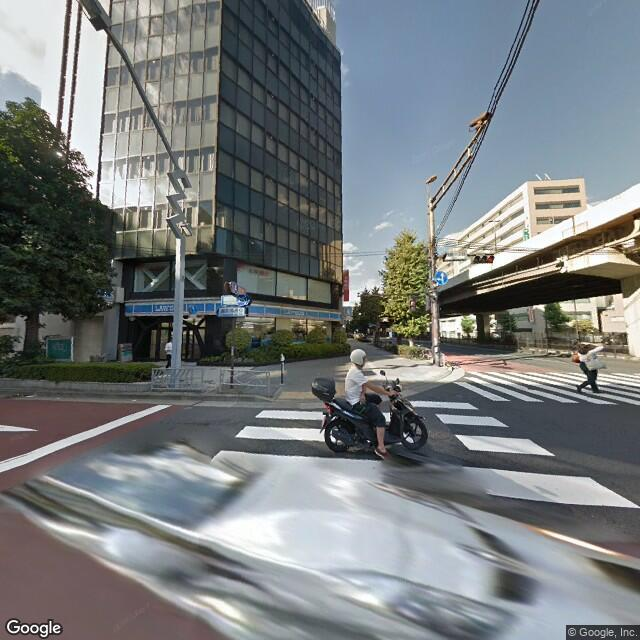lawson: (123, 293, 344, 326)
